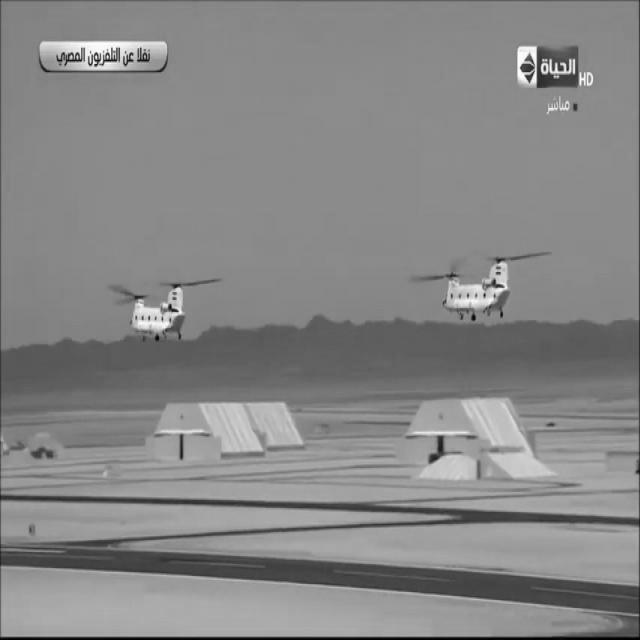helikopter: (428, 218, 529, 336), (110, 250, 220, 358)
